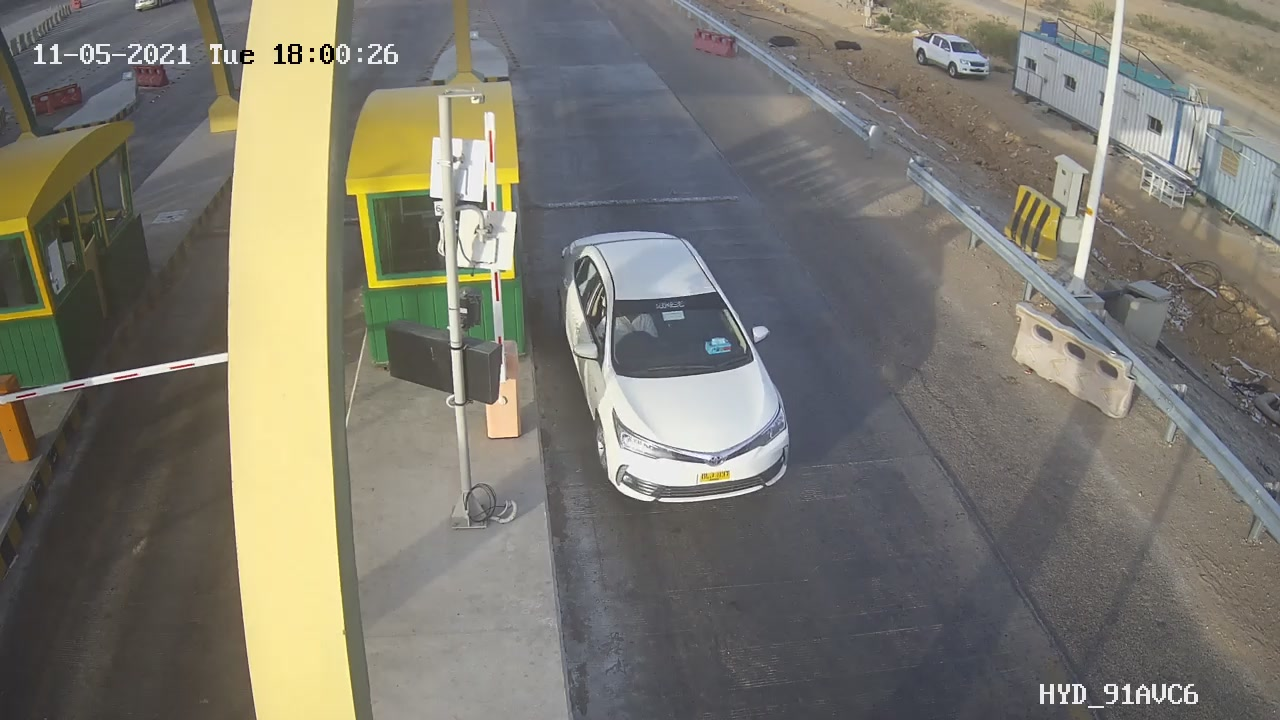F1: (551, 224, 808, 507)
